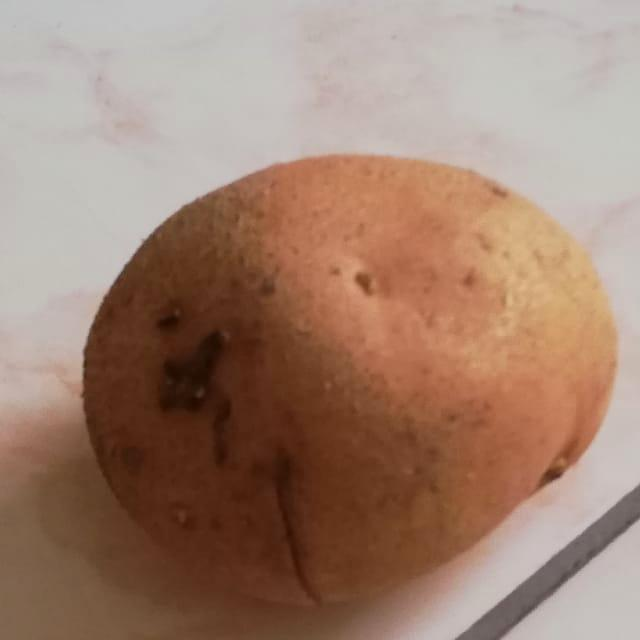potato: (69, 126, 639, 623)
